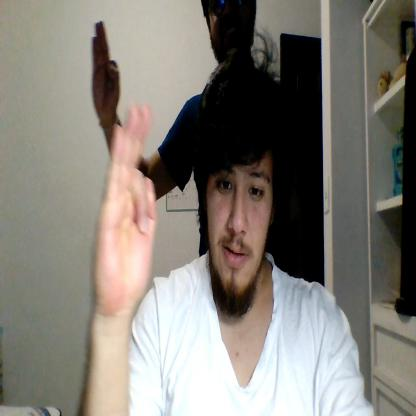F: (91, 101, 157, 311), (92, 20, 119, 120)
